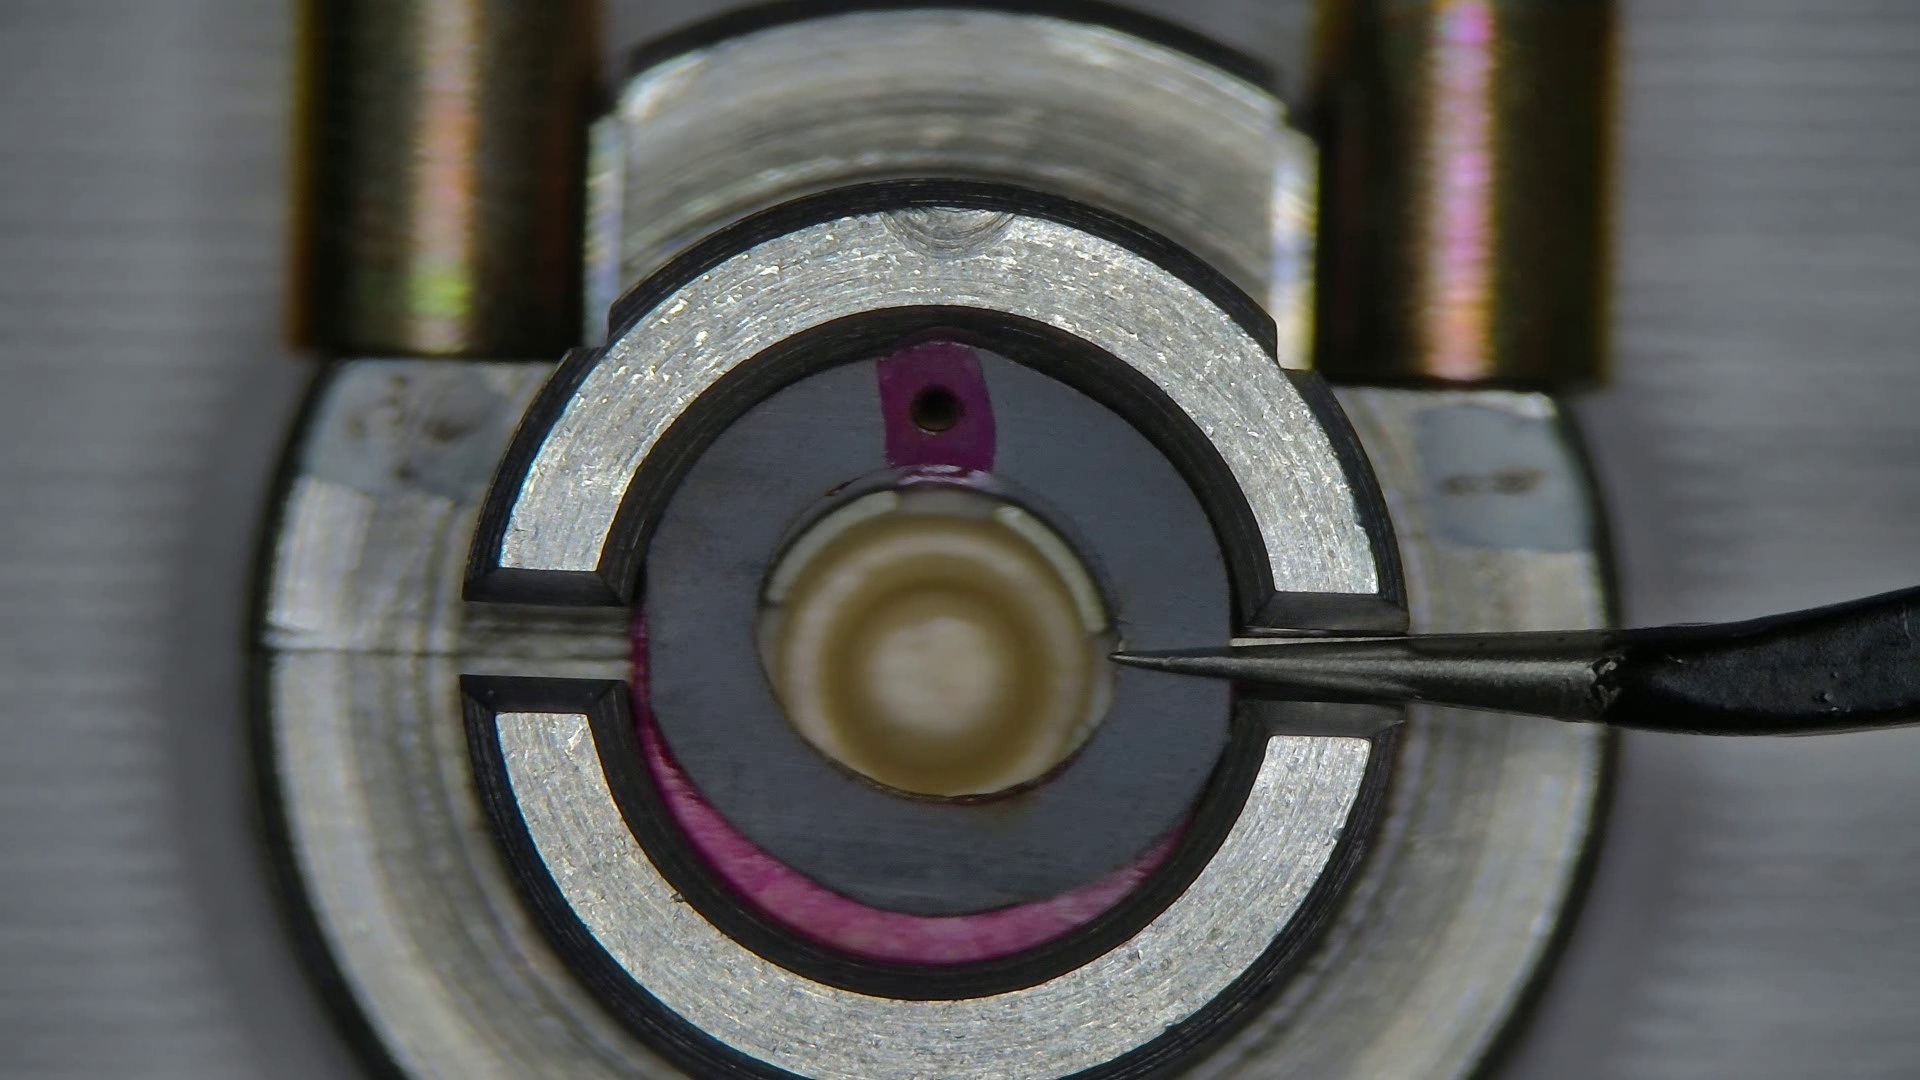GreyOring: (659, 764, 1145, 957)
YellowOring: (645, 345, 1232, 913)
